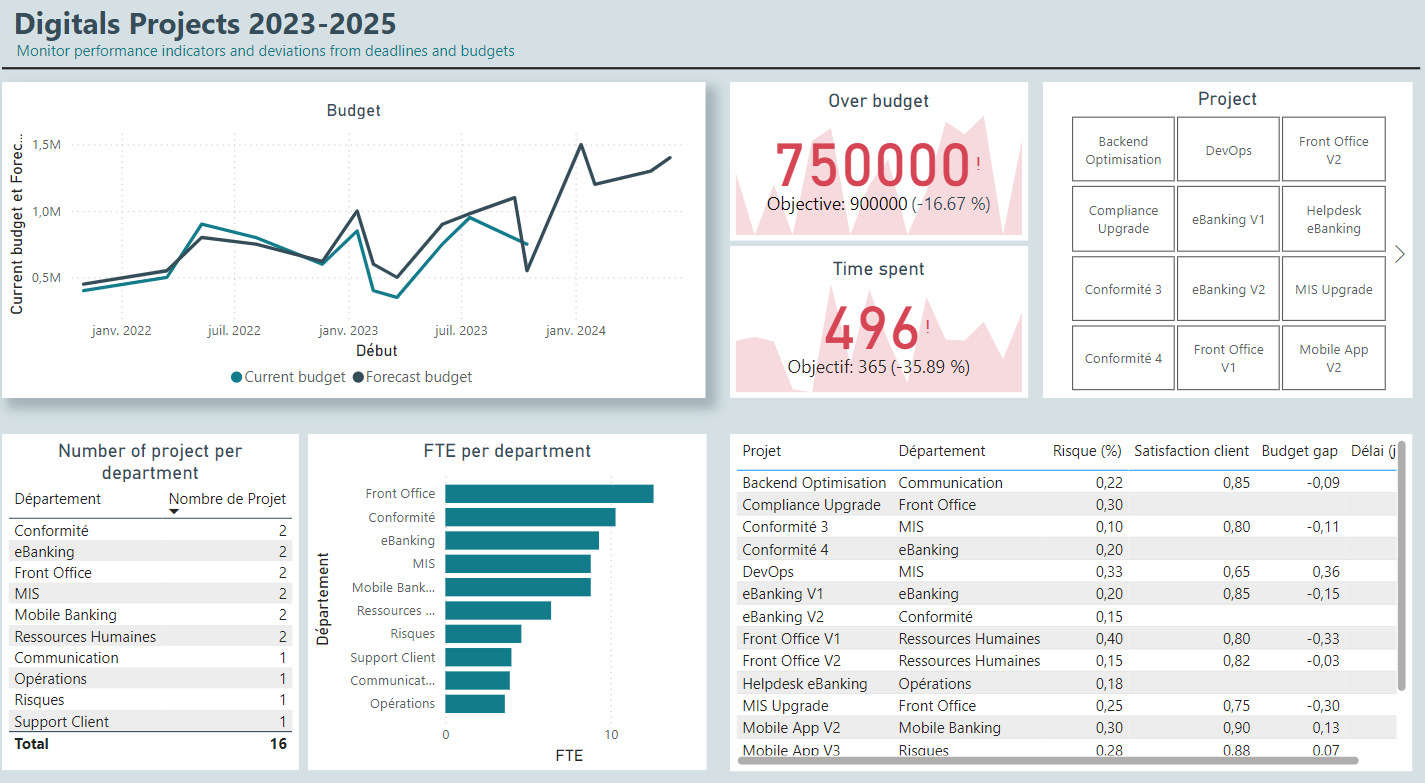

What the dashboard file says about the page in this screenshot:
{"tool":"powerbi","page":{"name":"Project steering","canvas":[1280,720],"ordinal":1},"visuals":[{"type":"shape","box":[4.9,12.6,1270.3,129.4],"z":0},{"type":"textbox","box":[9.7,12.6,1270.3,61.3],"z":1000},{"type":"lineChart","title":"Budget","fields":{"Category":["Worksheet.Début.Variation.Hiérarchie de dates.Année"],"Y":["Sum(Worksheet.Budget réel)","Sum(Worksheet.Budget prévu)"]},"box":[4.9,89.5,630.3,283],"z":2000},{"type":"kpi","title":"Over budget","fields":{"TrendLine":["Worksheet.Projet"],"Indicator":["Sum(Worksheet.Budget réel)"],"Goal":["Sum(Worksheet.Budget prévu)"]},"box":[656.5,89.5,266.5,142],"z":3000},{"type":"kpi","title":"Time spent","fields":{"TrendLine":["Worksheet.Projet"],"Indicator":["Sum(Worksheet.Temps passé (jours))"],"Goal":["Sum(Worksheet.Délai (jours))"]},"box":[656.5,236.4,266.5,136.2],"z":4000},{"type":"slicer","title":"Project","fields":{"Values":["Worksheet.Projet"]},"box":[936.7,89.5,330.7,283],"z":5000},{"type":"tableEx","title":"Number of project per department","fields":{"Values":["Worksheet.Département","CountNonNull(Worksheet.Projet)"]},"box":[4.9,404.6,265.5,300.5],"z":6000},{"type":"barChart","title":"FTE per department","fields":{"Category":["Worksheet.Département"],"Y":["Sum(Worksheet.FTE)"]},"box":[278.2,404.6,357,300.5],"z":7000},{"type":"textbox","box":[12.6,47.7,614.7,41.8],"z":8000},{"type":"tableEx","fields":{"Values":["Worksheet.Projet","Worksheet.Département","Worksheet.Risque (%)","Worksheet.Satisfaction client","Worksheet.Budget gap","Worksheet.Délai (jours)"]},"box":[656.5,404.6,610.8,301.5],"z":9000}]}

Visuals, with their boxes in screenshot pixels (x1, y1, x2, y2), scaled from the page's 1280x720 canvas onto the 1425x783 screenshot:
shape: box=[5, 14, 1420, 154]
textbox: box=[11, 14, 1424, 80]
"Budget" lineChart: box=[5, 97, 707, 405]
"Over budget" kpi: box=[731, 97, 1028, 252]
"Time spent" kpi: box=[731, 257, 1028, 405]
"Project" slicer: box=[1043, 97, 1411, 405]
"Number of project per department" tableEx: box=[5, 440, 301, 767]
"FTE per department" barChart: box=[310, 440, 707, 767]
textbox: box=[14, 52, 698, 97]
tableEx - Worksheet.Projet x Worksheet.Département: box=[731, 440, 1411, 768]
